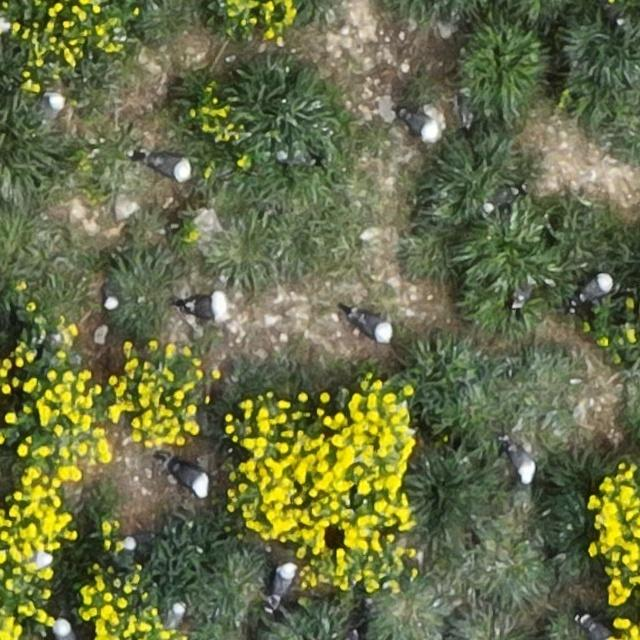umineko: (188, 291, 228, 324), (172, 463, 211, 495), (356, 315, 392, 342), (148, 156, 190, 178), (404, 113, 438, 139), (579, 275, 611, 302), (272, 563, 294, 602), (510, 449, 534, 483), (41, 92, 66, 123), (582, 617, 612, 640), (487, 186, 518, 208), (123, 535, 163, 552), (53, 620, 76, 640), (168, 604, 185, 628)
